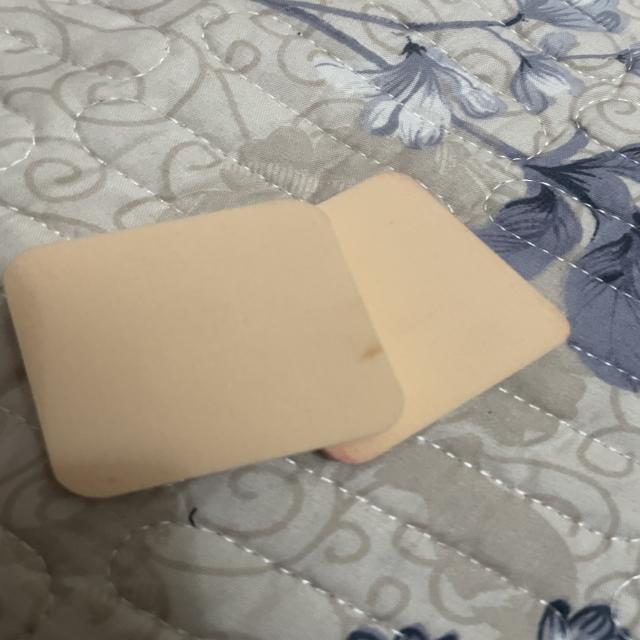beauty blender: (7, 148, 582, 508)
